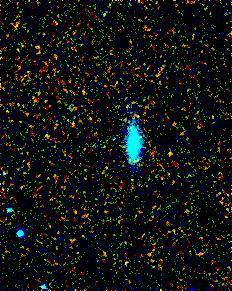star: (154, 138, 184, 168)
